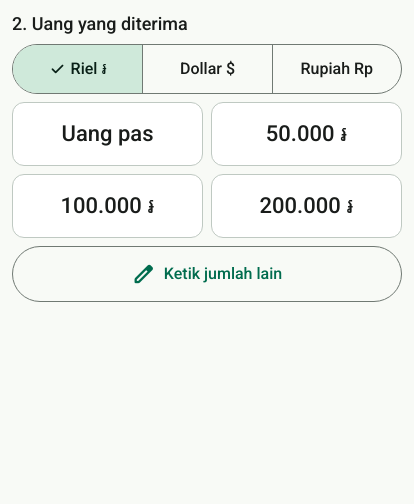
it: Bayar – kembalian tunai › bayar dengan dollar: uang pas $10.25, $20 → kembalian 40.000 ៛
What coordinates should you click on to do the following:
click the radio button labelled "Dollar $"
I would click on:
 (207, 69)
Its box is [142,45,272,93].
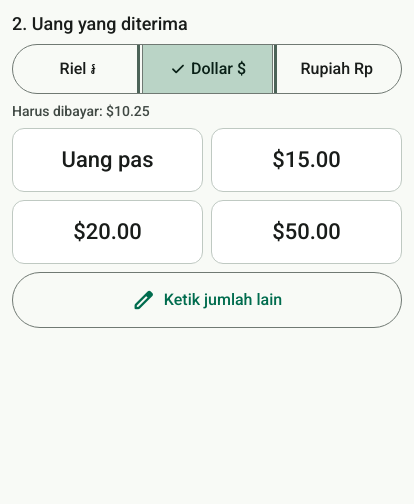
Expected: the text "Harus dibayar: $10.25" is shown, [12,103,150,119]
What coordinates should you click on to do the following:
click the button "$20.00"
I would click on:
 (108, 232)
Its box is [12,200,203,264].
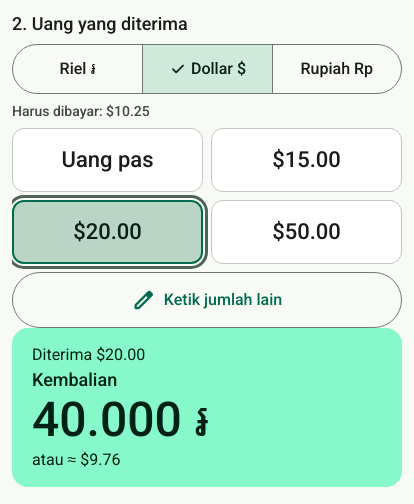
Expected: the text with test id "change-amount" reads "40.000 ៛", [32,391,210,448]
